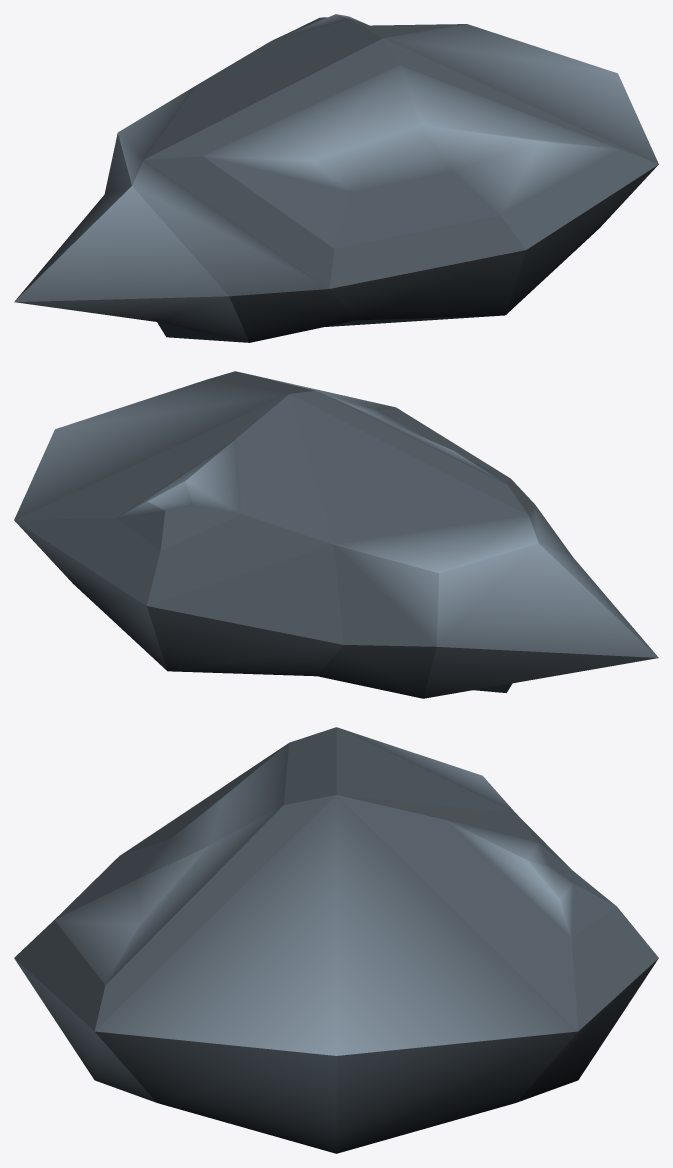
The model's file is PickableStone_v1_1.fbx.
3 renders of one model, top to bottom at view 1: azimuth 30°, elevation 25°; view 2: azimuth 150°, elevation 25°; view 3: azimuth 270°, elevation 25°, orthographic. The views are drawn at different scales.
Visible parts, largest first — view 1: PickableStone_V1_1; view 2: PickableStone_V1_1; view 3: PickableStone_V1_1.
Boxes of the visible parts, x1,y1,x2,y2 form: PickableStone_V1_1: (14, 14, 658, 342); PickableStone_V1_1: (14, 371, 658, 698); PickableStone_V1_1: (14, 727, 658, 1153).
Size of the model in its own units: 37.08 by 14.44 by 27.19.
